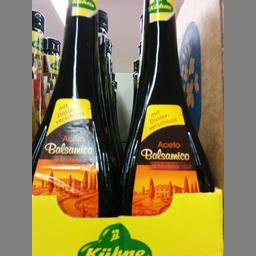vinegar: (120, 0, 219, 214), (35, 0, 112, 215)
